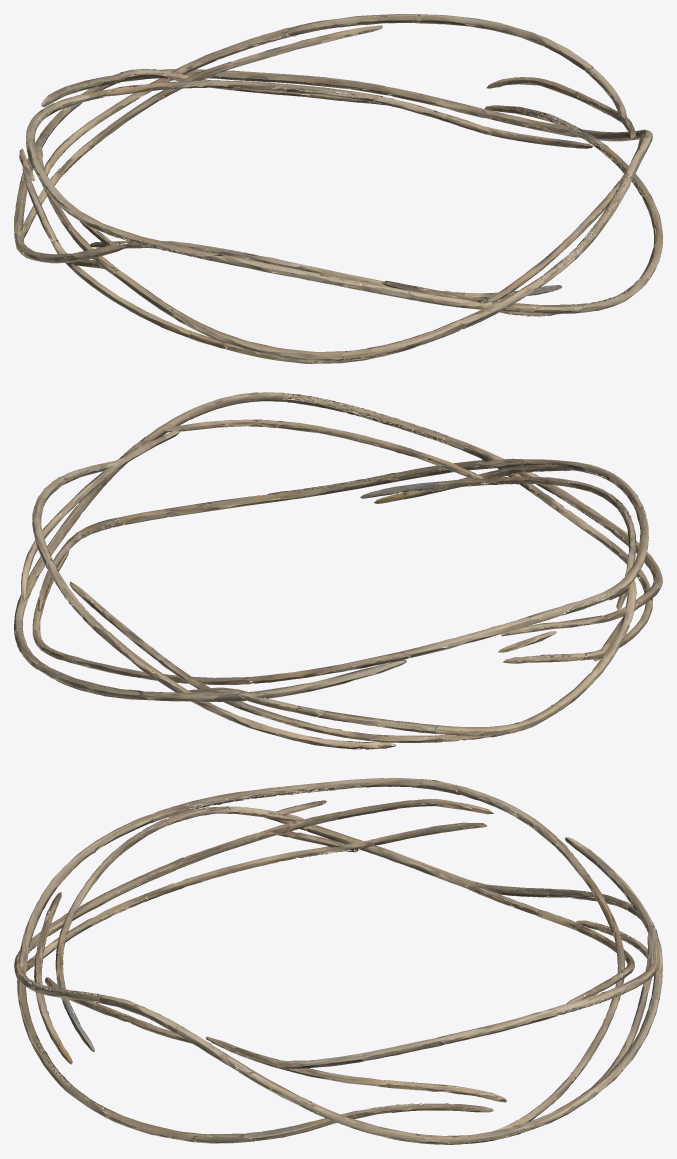
The model's file is thread-of-many-slim.glb.
The picture shows the model from 3 angles, top to bottom: view 1: azimuth 30°, elevation 25°; view 2: azimuth 150°, elevation 25°; view 3: azimuth 270°, elevation 25°; orthographic projection.
Parts seen in each view (by area): view 1: node_0; view 2: node_0; view 3: node_0.
Part boxes in pixels (left/top/right/bottom): node_0: left=14, top=14, right=662, bottom=363; node_0: left=14, top=392, right=662, bottom=749; node_0: left=14, top=778, right=662, bottom=1144.
Bounding box in the file's own units: 1.16 × 0.2413 × 1.16.
Materials: 1 (1 with a texture image).
